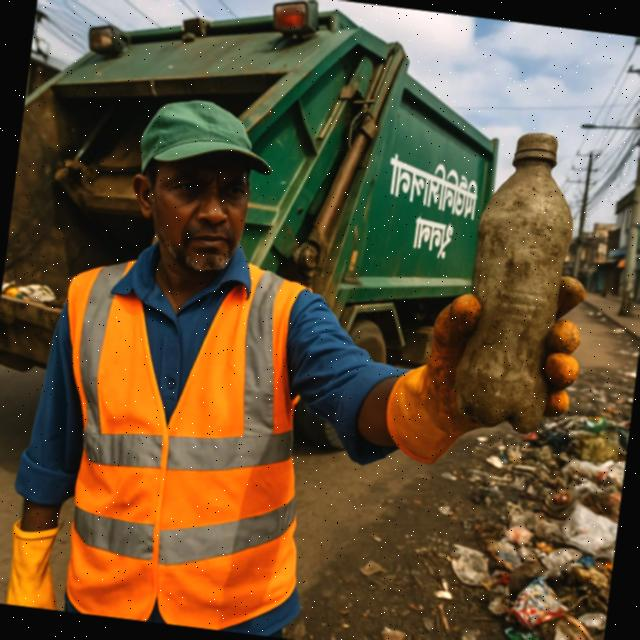plastic: (446, 125, 591, 434)
